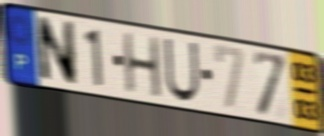1: (83, 27, 104, 89)
7: (211, 43, 249, 114), (253, 49, 286, 120)
H: (121, 31, 164, 101)
N: (34, 14, 78, 88)
U: (162, 36, 201, 104)
